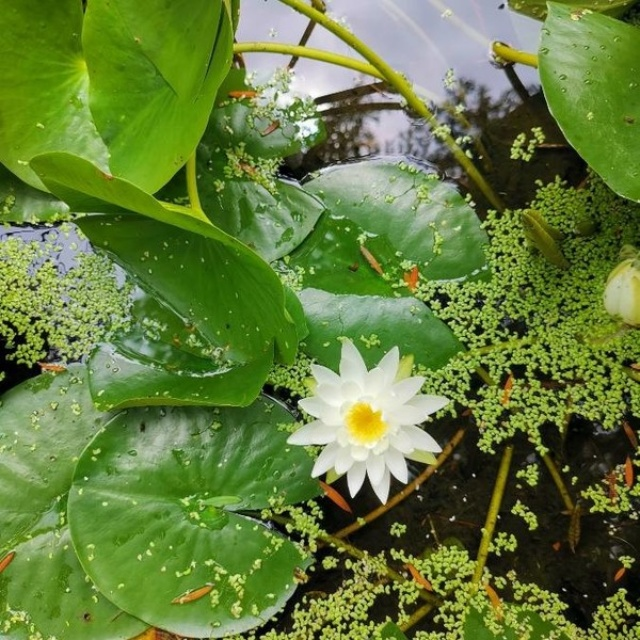obstacle: (42, 145, 443, 613), (299, 325, 447, 513)
